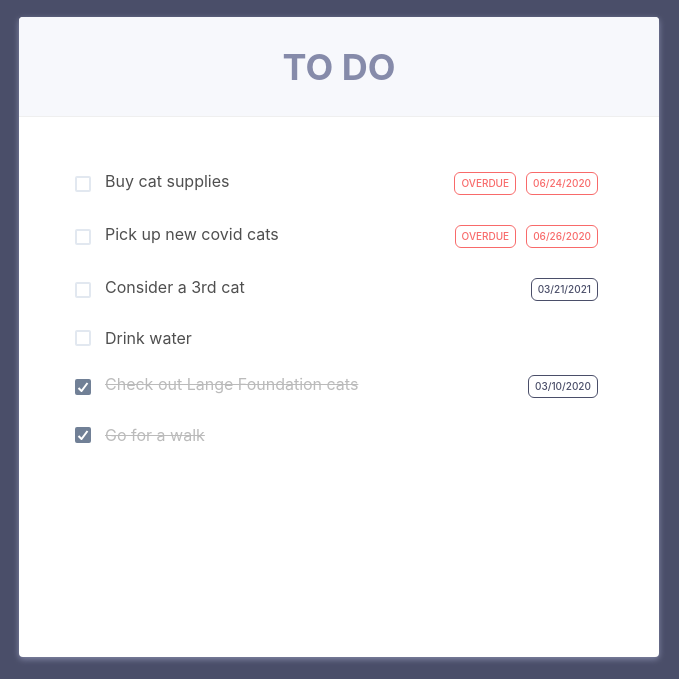
it: Update Todo Flow › shows an error message upon failed update; no change occurs
Click the checkbox labelled "Buy cat supplies OVERDUE 06/24/2020" at (167,181), box [75,171,598,195]
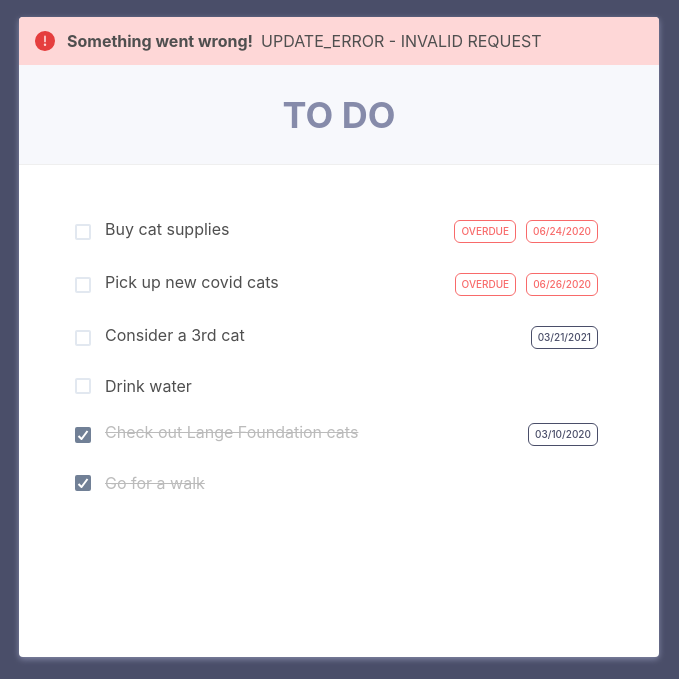
expect the text "UPDATE_ERROR - INVALID REQUEST" is shown: met, box [261,29,542,53]
